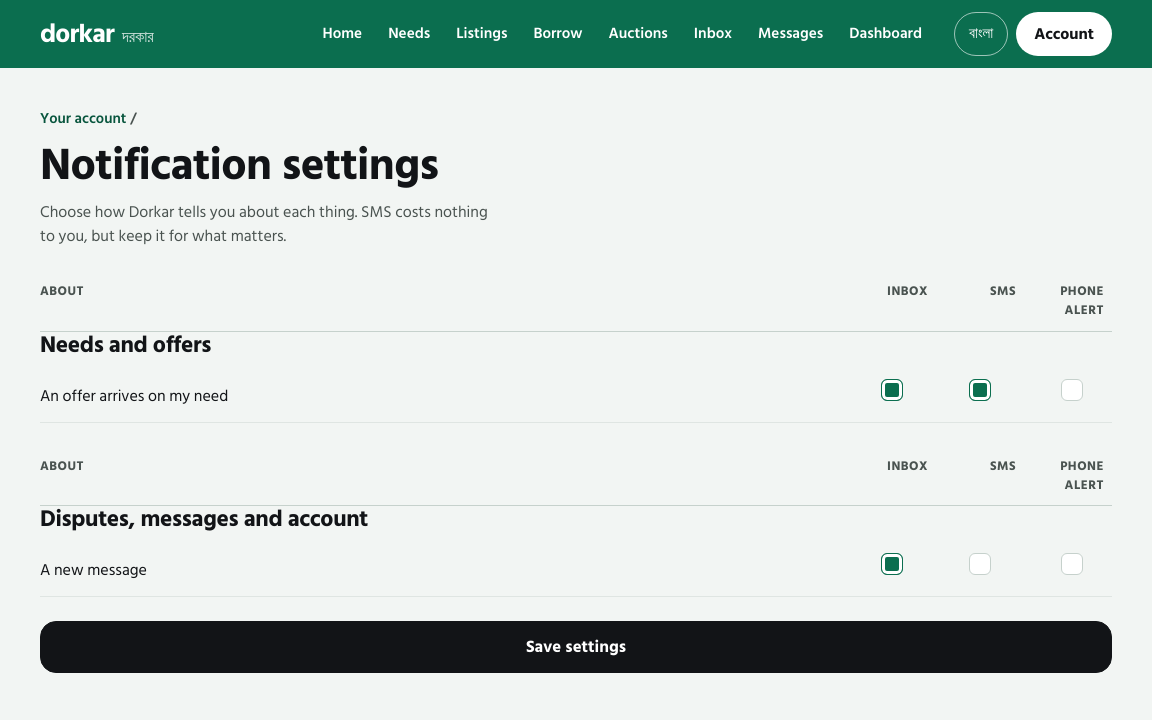
Test case: notification settings › saves every type with the channels chosen
Click the checkbox named "An offer arrives on my need: SMS" at (980, 390), box [957, 368, 1003, 412]
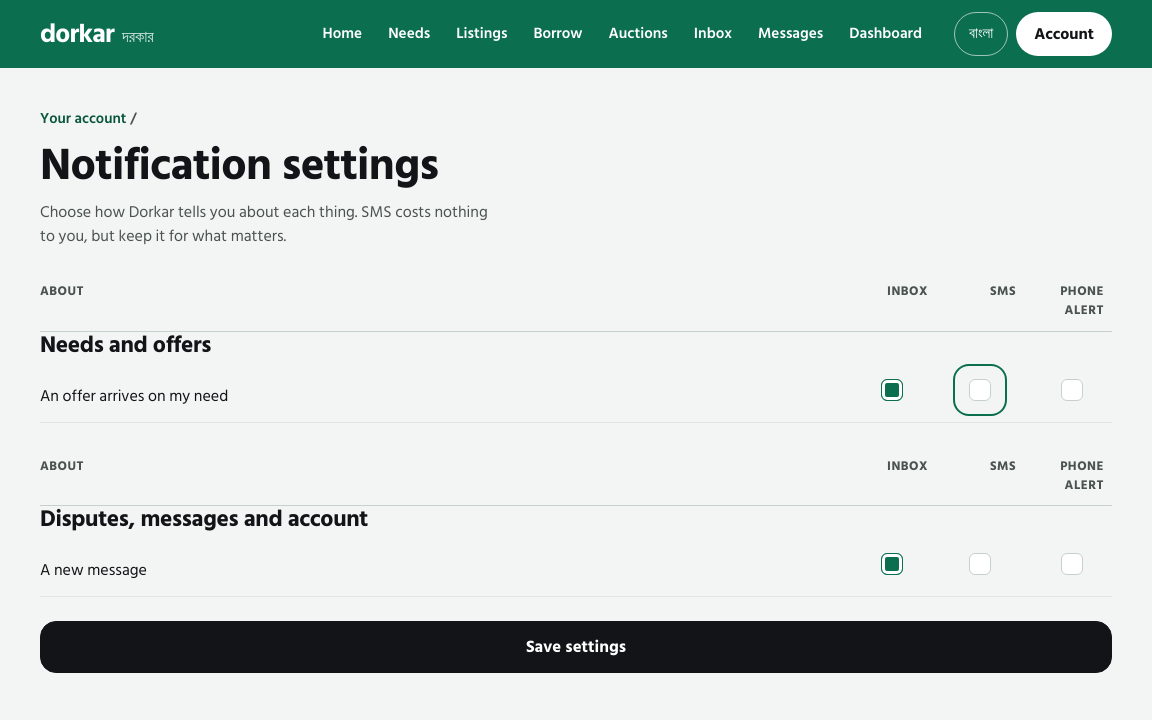
Click the checkbox named "A new message: Phone alert" at (1072, 564), box [1049, 542, 1095, 586]
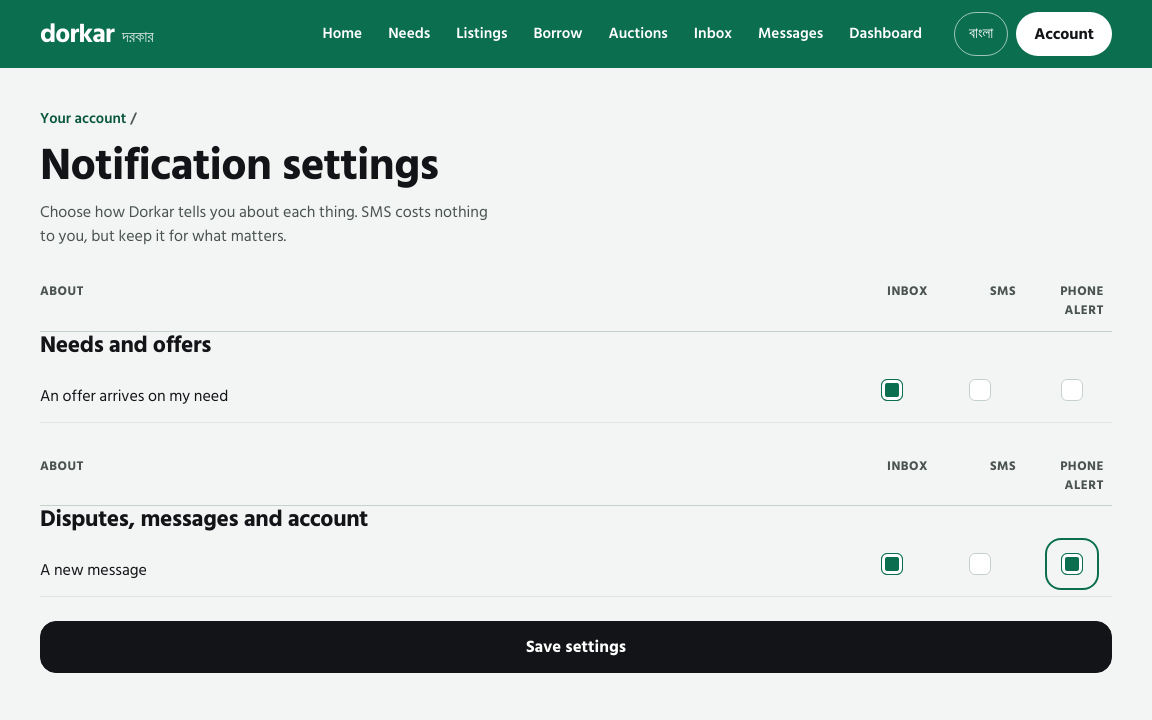
Click the button "Save settings" at (576, 647), box [40, 621, 1112, 673]
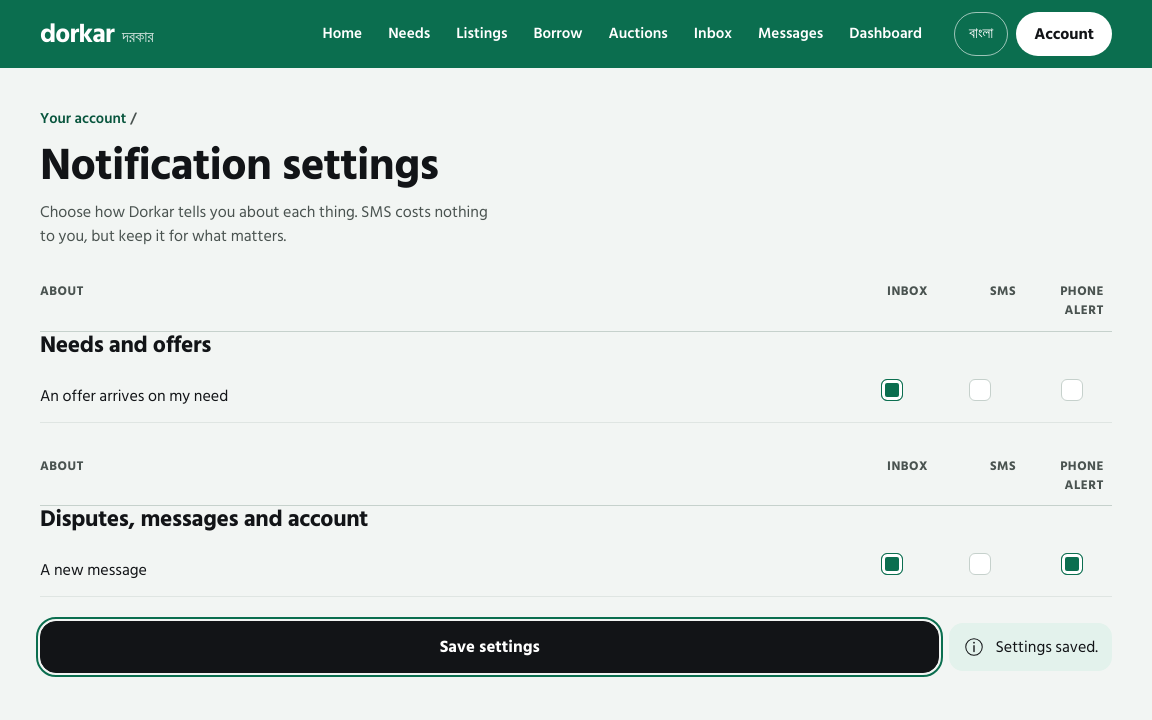
Expected: the text "Settings saved." is shown, [996, 635, 1098, 659]
